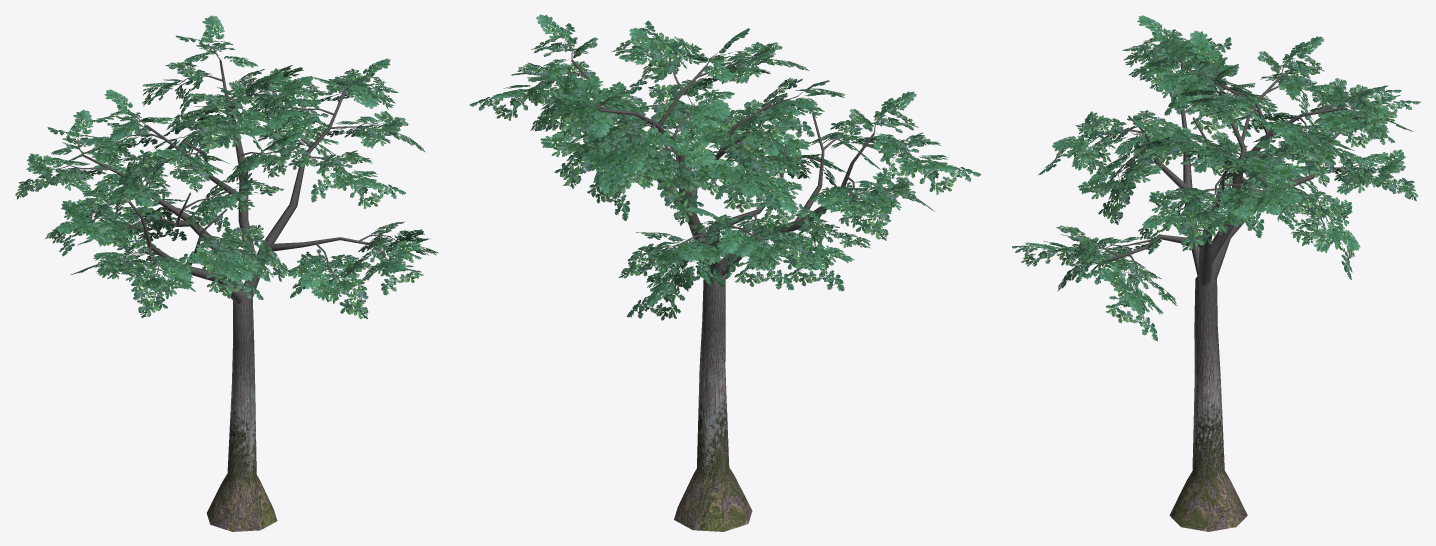
Rendered from SM_Q_Oak.fbx.
3 renders of one model, left to right at view 1: azimuth 30°, elevation 25°; view 2: azimuth 150°, elevation 25°; view 3: azimuth 270°, elevation 25°, orthographic. The views are drawn at different scales.
Visible parts, largest first — view 1: Quercus_A; view 2: Quercus_A; view 3: Quercus_A.
Boxes of the visible parts, x1,y1,x2,y2 form: Quercus_A: [15, 15, 438, 531]; Quercus_A: [469, 14, 981, 531]; Quercus_A: [1012, 15, 1420, 531].
Size of the model in its own units: 1083 by 1165 by 920.
Materials: 1 (1 with a texture image).
